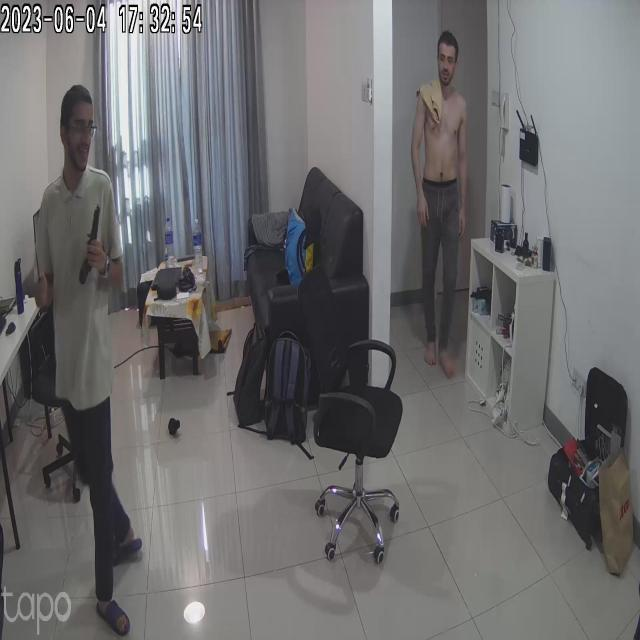Gun: (69, 202, 124, 284)
Knife: (18, 220, 56, 304)
